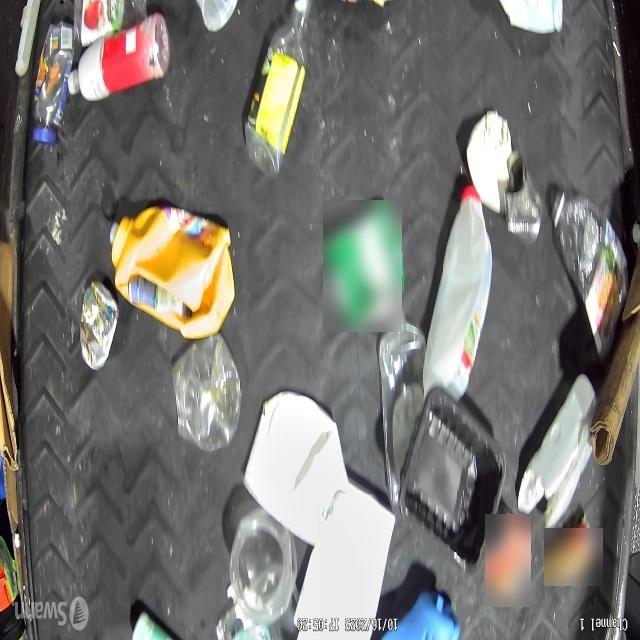milk_jug: (418, 178, 492, 400), (298, 499, 396, 640), (248, 394, 346, 526), (522, 382, 588, 533)
non_white_jug: (102, 196, 244, 346)
plastic_bottle: (244, 0, 306, 182), (381, 310, 422, 510)
